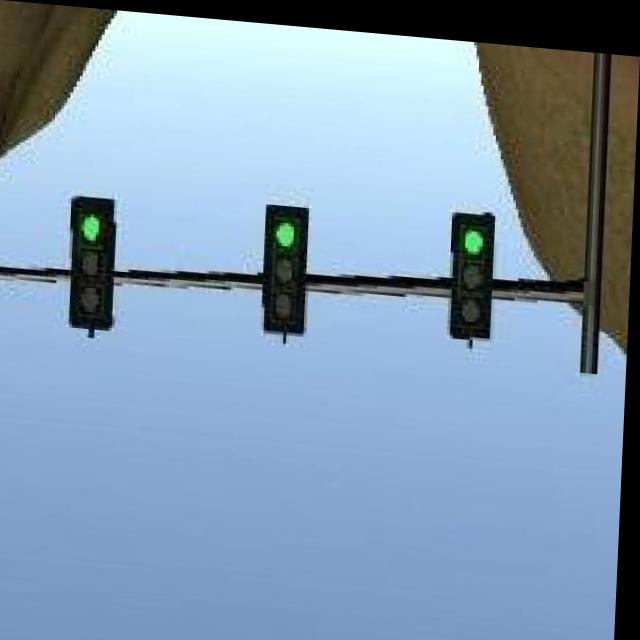green light: (266, 200, 314, 331), (72, 195, 116, 332), (453, 200, 497, 329)
